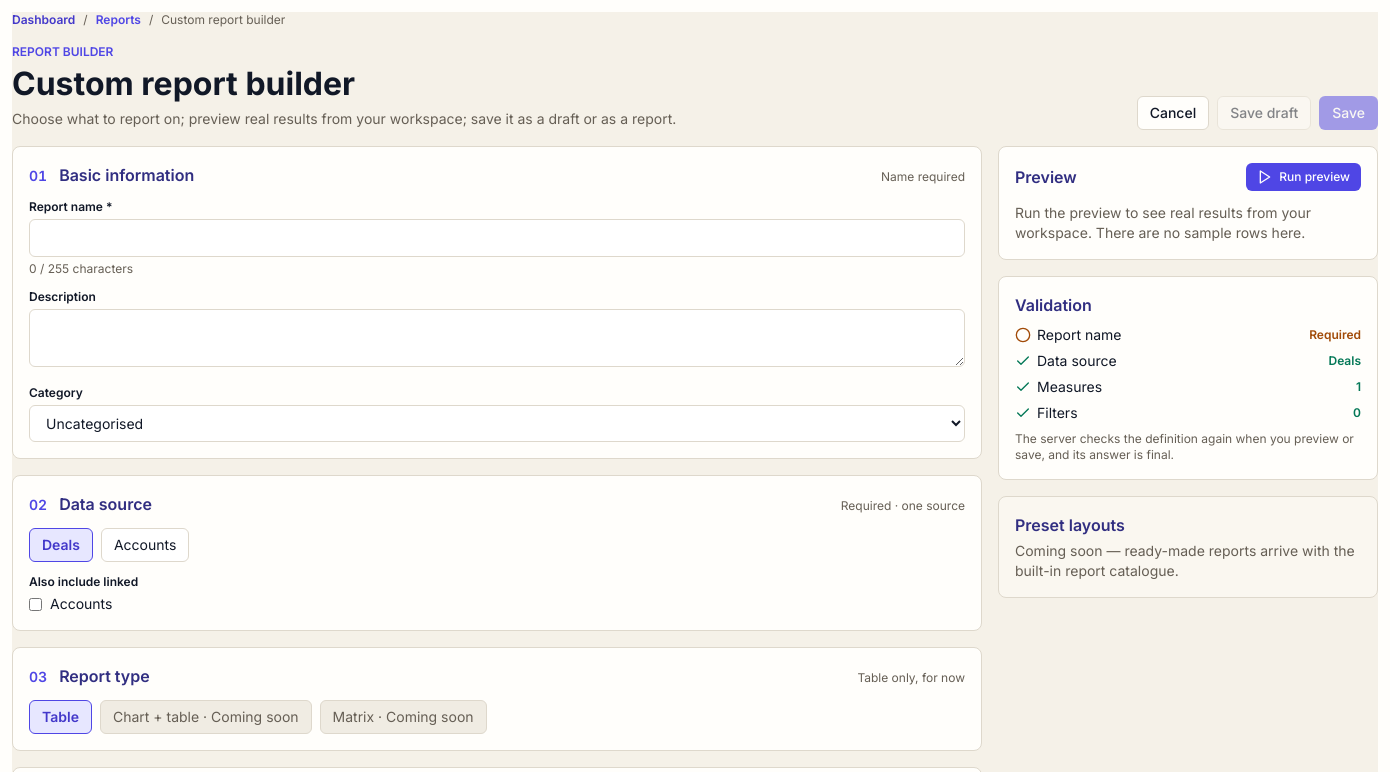
saving, and drafts › a refused save keeps the input and shows the server reason
The width and height of the screenshot is (1390, 772).
Check: the element named "Data source" is shown, box [29,528,189,562]
Step 1. Type "Taken" into the field labelled "Report name *" → (497, 238), box [29,219,965,257]
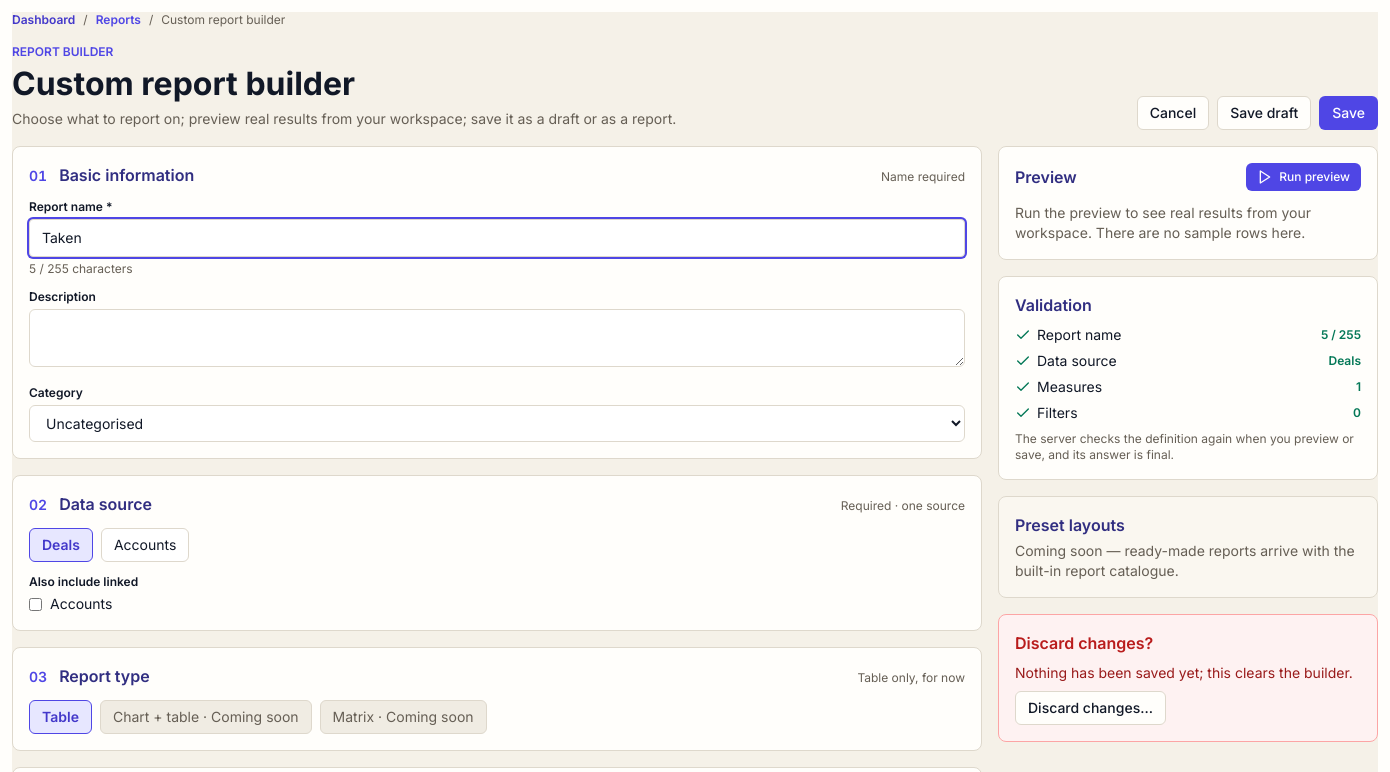
Step 2. Click the button "Save" → (1349, 113), box [1319,96,1378,130]
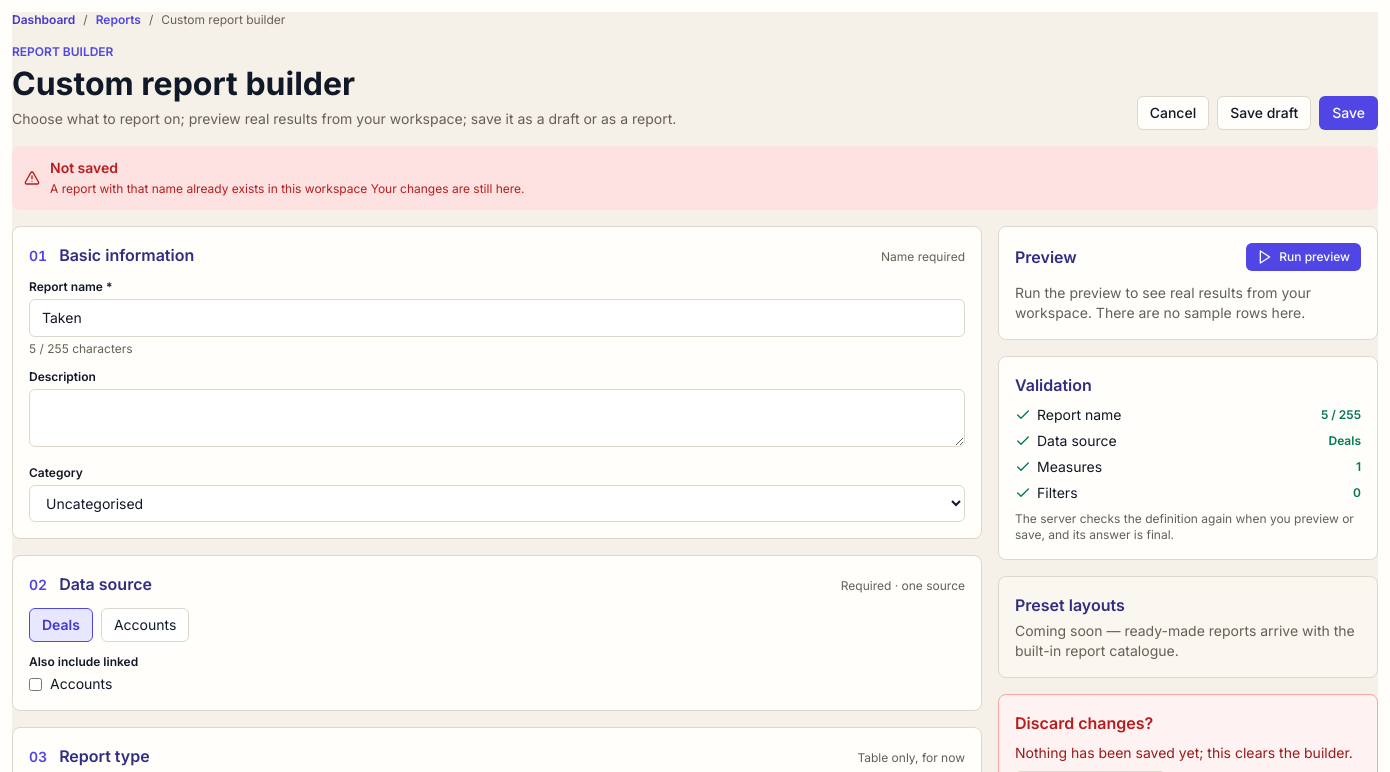
Check: the text "Not saved" is shown, box [50,159,118,176]
Check: the element with test id "save-result" shows "already exists", box [50,181,367,196]
